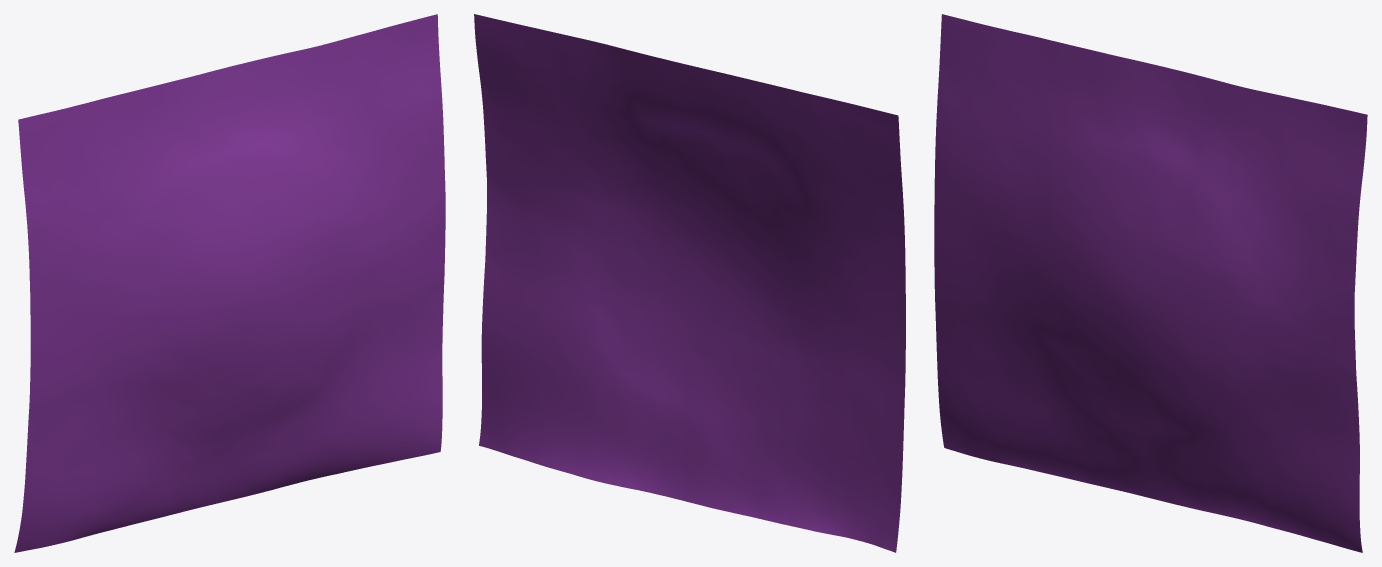
The model's file is real_droplet_SFHC.glb.
3 renders of one model, left to right at view 1: azimuth 30°, elevation 25°; view 2: azimuth 150°, elevation 25°; view 3: azimuth 330°, elevation 25°, orthographic.
Visible parts, largest first — view 1: result-20251229_224216-droplet-baseline; view 2: result-20251229_224216-droplet-baseline; view 3: result-20251229_224216-droplet-baseline.
Boxes of the visible parts, x1=… form: result-20251229_224216-droplet-baseline: x1=14, y1=14, x2=445, y2=552; result-20251229_224216-droplet-baseline: x1=474, y1=14, x2=905, y2=552; result-20251229_224216-droplet-baseline: x1=934, y1=14, x2=1367, y2=552.
Bounding box in the file's own units: 1.29 × 1.27 × 0.1516.
